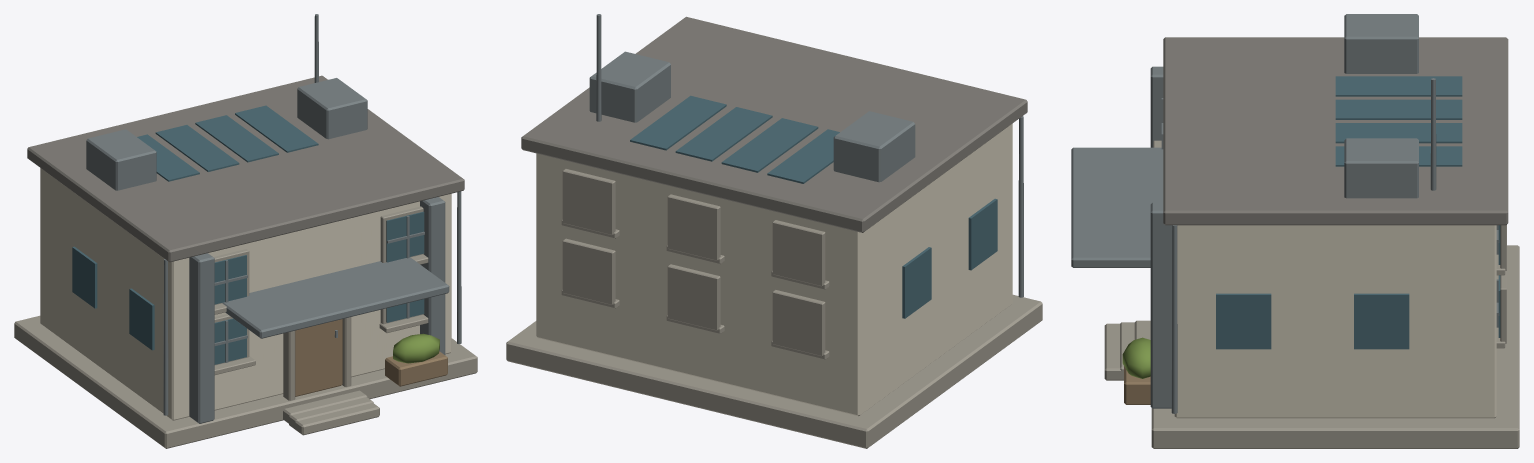
Rendered from bld_maison_a10.glb.
The picture shows the model from 3 angles, left to right: view 1: azimuth 30°, elevation 25°; view 2: azimuth 150°, elevation 25°; view 3: azimuth 270°, elevation 25°; orthographic projection. The views are drawn at different scales.
Parts seen in each view (by area): view 1: bld_maison_a10; view 2: bld_maison_a10; view 3: bld_maison_a10.
Boxes of the visible parts, left/top/right/bottom form: bld_maison_a10: left=14, top=14, right=477, bottom=448; bld_maison_a10: left=506, top=14, right=1042, bottom=448; bld_maison_a10: left=1071, top=14, right=1519, bottom=448.
Bounding box in the file's own units: 3.8 × 3.31 × 3.9.
